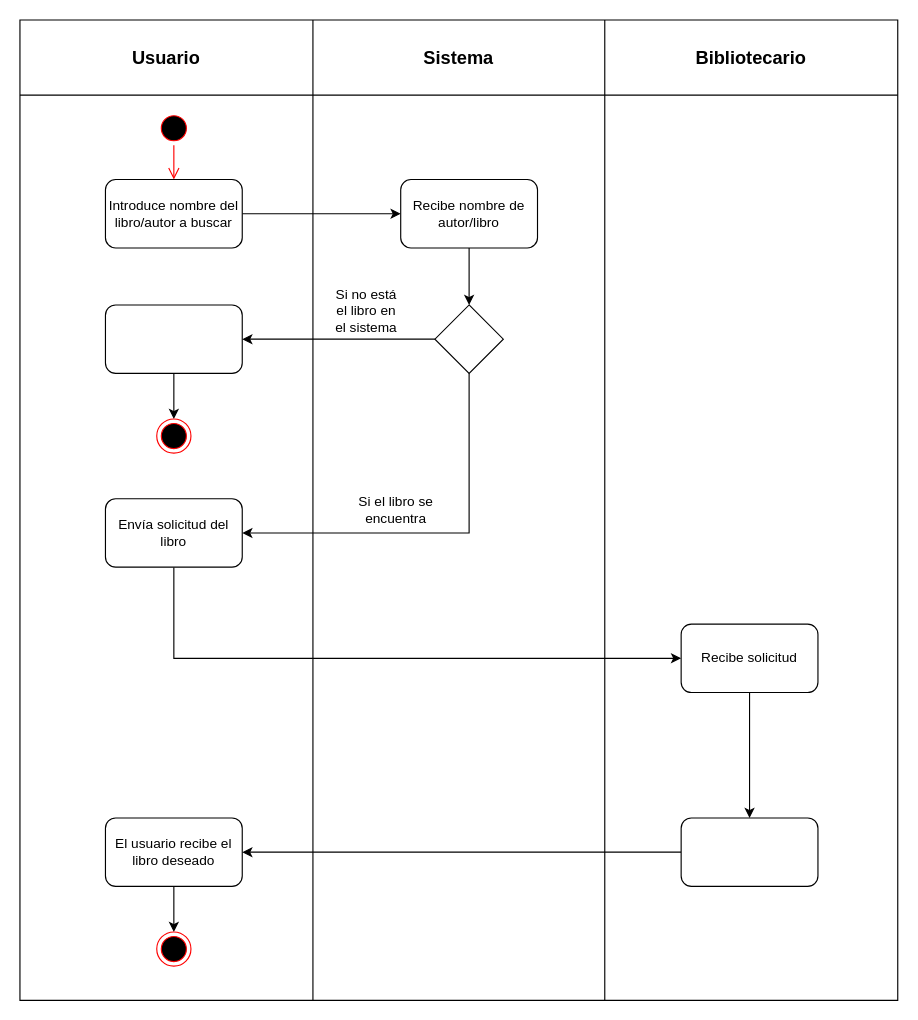
The diagram is 918 pixels wide and 1020 high, and some of its shapes have lost their labels. The box of each missing label's shape, as (x1, y1, x2, y2) in pixels:
Envía el libro al usuario: (680, 817, 818, 886)
Recibe mensaje de libro no encontrado: (104, 304, 242, 373)
